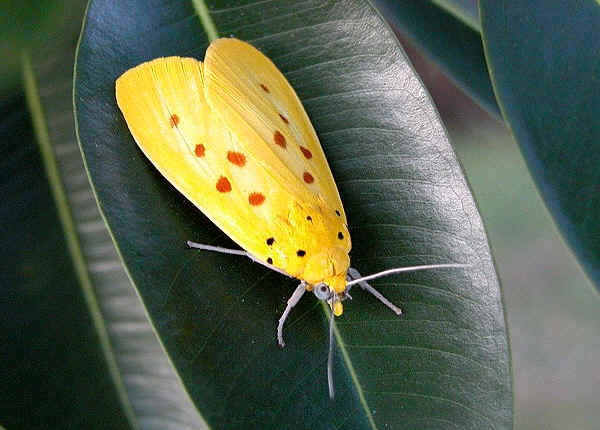Agape chloropyga: (106, 32, 473, 399)
moth: (108, 34, 475, 401)
